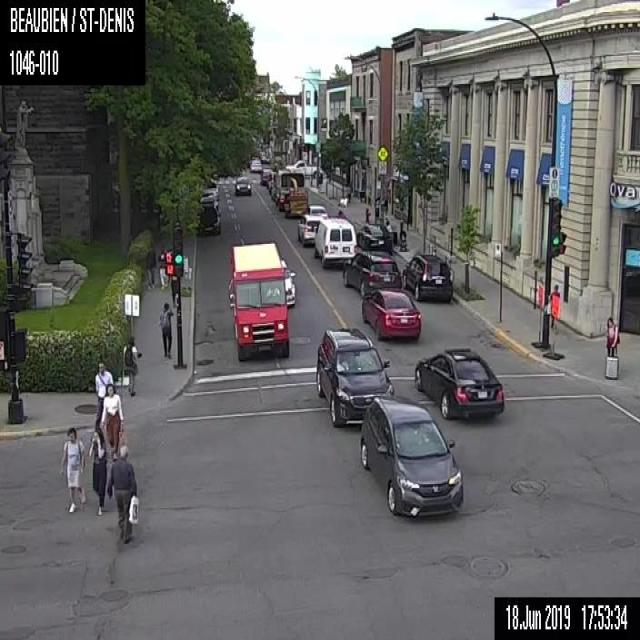construction: (543, 294, 564, 359), (530, 284, 543, 348)
pedestrian: (109, 445, 139, 543), (57, 428, 84, 512), (99, 382, 123, 460), (87, 427, 106, 514), (92, 359, 112, 426), (124, 335, 142, 397), (603, 314, 620, 378), (158, 302, 172, 358), (548, 281, 560, 331), (143, 243, 156, 289), (157, 243, 169, 290)
vehicle: (358, 395, 464, 520), (315, 328, 393, 427), (227, 240, 289, 361), (412, 344, 504, 420), (361, 286, 420, 341), (341, 248, 401, 295), (401, 251, 453, 303), (313, 217, 356, 268), (276, 168, 306, 216), (355, 222, 391, 250), (194, 203, 221, 237), (278, 258, 296, 308), (298, 212, 324, 246), (284, 158, 316, 176), (198, 190, 218, 209), (233, 174, 251, 194), (306, 204, 328, 218), (261, 168, 271, 184), (250, 158, 261, 171)
